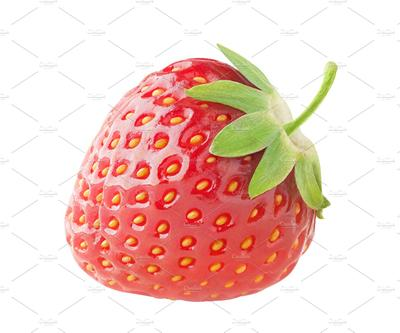strawberry: (0, 0, 400, 333)
